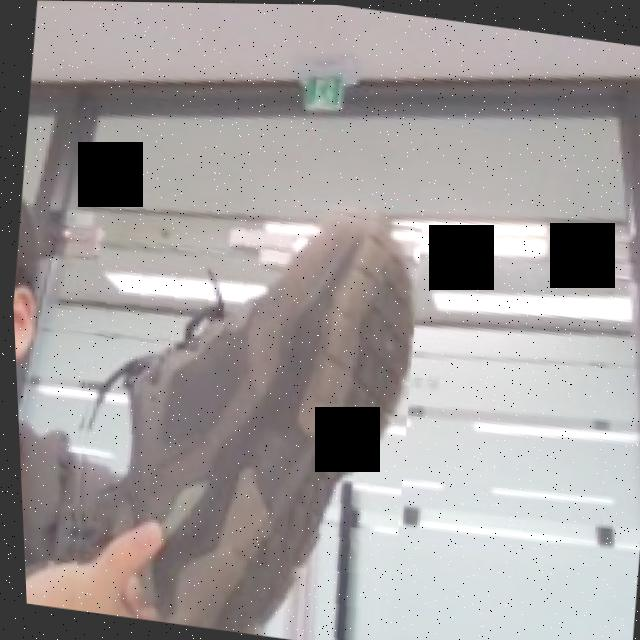shoe: (40, 172, 435, 640)
